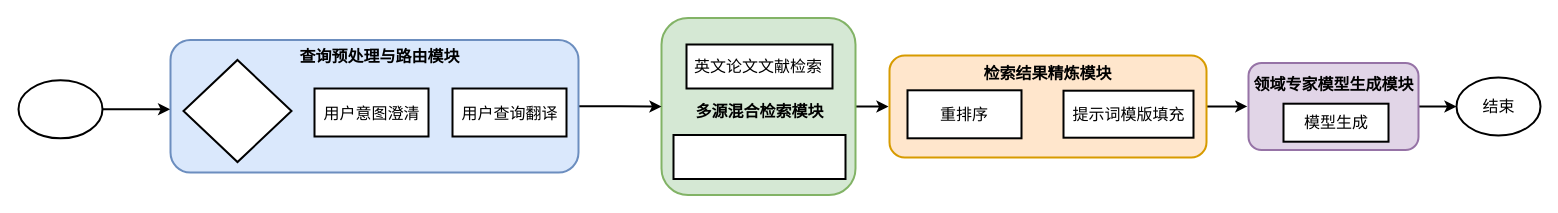
The diagram is 1558 pixels wide and 213 high, and some of its shapes have lost their labels. The centre of each missing label's shape, as x and y in pixels:
"中英双语博客文献检索" goes at point (759, 157).
"开始" goes at point (60, 109).
"混合路由" goes at point (237, 110).
